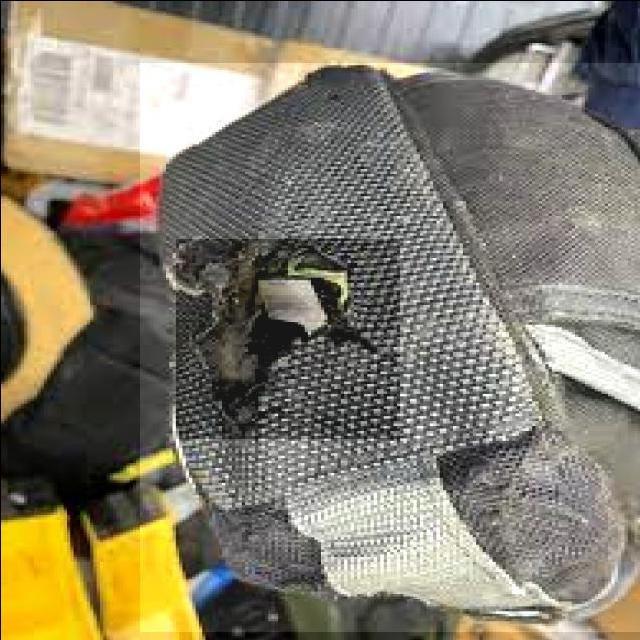Damage-bag: (172, 241, 376, 436)
